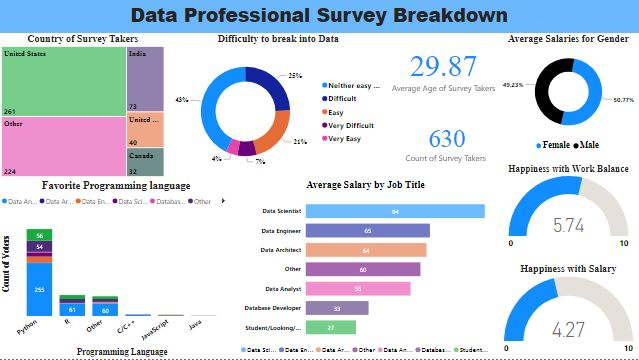

What the dashboard file says about the page in this screenshot:
{"tool":"powerbi","page":{"name":"Page 1","canvas":[1280,720],"ordinal":0},"visuals":[{"type":"textbox","box":[0,0,1280,68],"z":0},{"type":"card","fields":{"Values":["Count(Data Professional Survey.Unique ID)"]},"box":[791.7,210,206.7,150],"z":1000},{"type":"card","fields":{"Values":["Avg(Data Professional Survey.Q10 - Current Age)"]},"box":[780,68.3,218.3,141.7],"z":2000},{"type":"barChart","title":"Average Salary by Job Title","fields":{"Category":["Data Professional Survey.Q1 - Which Title Best Fits your Current Role?.1"],"Y":["Avg(Data Professional Survey.Average Salary )"],"Series":["Data Professional Survey.Q1 - Which Title Best Fits your Current Role?.1"]},"box":[468.3,360,530,360],"z":3000},{"type":"columnChart","title":"Favorite Programming language","fields":{"Category":["Data Professional Survey.Q5 - Favorite Programming Language.1"],"Y":["CountNonNull(Data Professional Survey.Unique ID)"],"Series":["Data Professional Survey.Q1 - Which Title Best Fits your Current Role?.1"]},"box":[0,360,468.3,360],"z":4000},{"type":"treemap","title":"Country of Survey Takers ","fields":{"Group":["Data Professional Survey.Q11 - Which Country do you live in?.1"],"Values":["CountNonNull(Data Professional Survey.Q11 - Which Country do you live in?.1)"]},"box":[0,68.3,335,291.7],"z":5000},{"type":"gauge","title":"Happiness with Salary","fields":{"Y":["Avg(Data Professional Survey.Q6 - How Happy are you in your Current Position with the following? (Salary))"],"MinValue":["Min(Data Professional Survey.Q6 - How Happy are you in your Current Position with the following? (Salary))"],"MaxValue":["Max(Data Professional Survey.Q6 - How Happy are you in your Current Position with the following? (Salary))"]},"box":[998.3,528.3,281.7,191.7],"z":6000},{"type":"gauge","title":"Happiness with Work Balance","fields":{"Y":["Avg(Data Professional Survey.Q6 - How Happy are you in your Current Position with the following? (Work/Life Balance))"],"MinValue":["Min(Data Professional Survey.Q6 - How Happy are you in your Current Position with the following? (Work/Life Balance))"],"MaxValue":["Max(Data Professional Survey.Q6 - How Happy are you in your Current Position with the following? (Work/Life Balance))"]},"box":[998.3,328.3,281.7,181.7],"z":7000},{"type":"donutChart","title":"Average Salaries for Gender","fields":{"Category":["Data Professional Survey.Q9 - Male/Female?"],"Y":["Avg(Data Professional Survey.Average Salary )"]},"box":[998.3,68.3,281.7,246.7],"z":8000},{"type":"donutChart","title":"Difficulty to break into Data","fields":{"Category":["Data Professional Survey.Q7 - How difficult was it for you to break into Data?"],"Y":["CountNonNull(Data Professional Survey.Q7 - How difficult was it for you to break into Data?)"]},"box":[335,68.3,445,291.7],"z":8001}]}

Visuals, with their boxes in screenshot pixels (x1, y1, x2, y2), scaled from the page's 1280x720 canvas onto the 639x360 screenshot:
textbox: select_region(0, 0, 638, 34)
card - Count(Data Professional Survey.Unique ID): select_region(395, 105, 498, 180)
card - Avg(Data Professional Survey.Q10 - Current Age): select_region(389, 34, 498, 105)
"Average Salary by Job Title" barChart: select_region(234, 180, 498, 359)
"Favorite Programming language" columnChart: select_region(0, 180, 234, 359)
"Country of Survey Takers " treemap: select_region(0, 34, 167, 180)
"Happiness with Salary" gauge: select_region(498, 264, 638, 359)
"Happiness with Work Balance" gauge: select_region(498, 164, 638, 255)
"Average Salaries for Gender" donutChart: select_region(498, 34, 638, 158)
"Difficulty to break into Data" donutChart: select_region(167, 34, 389, 180)
